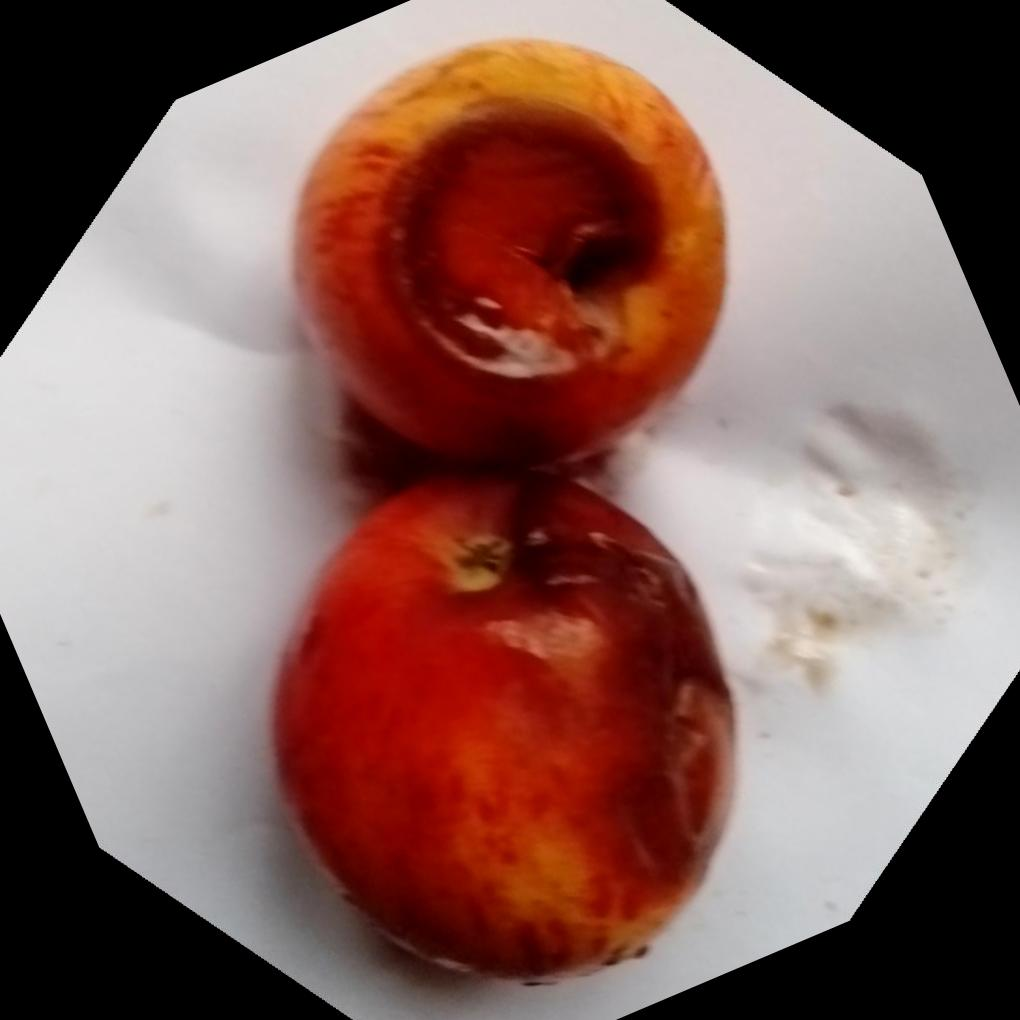FreshOrange: (272, 32, 742, 986)
